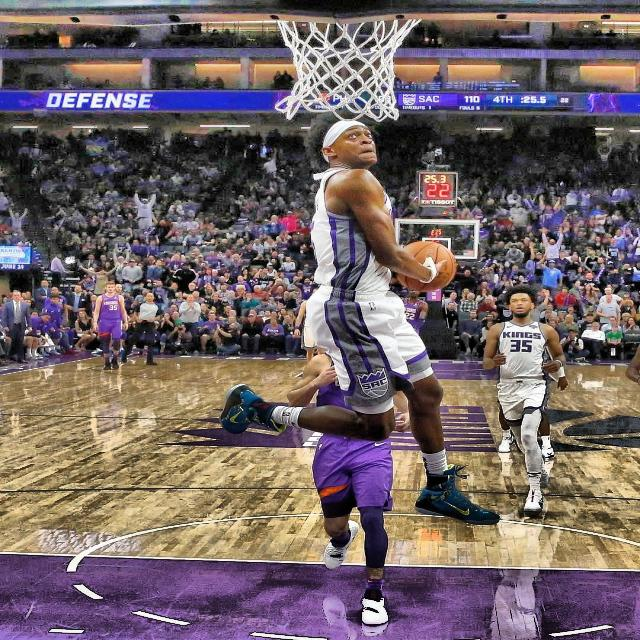rim: (268, 18, 415, 121)
